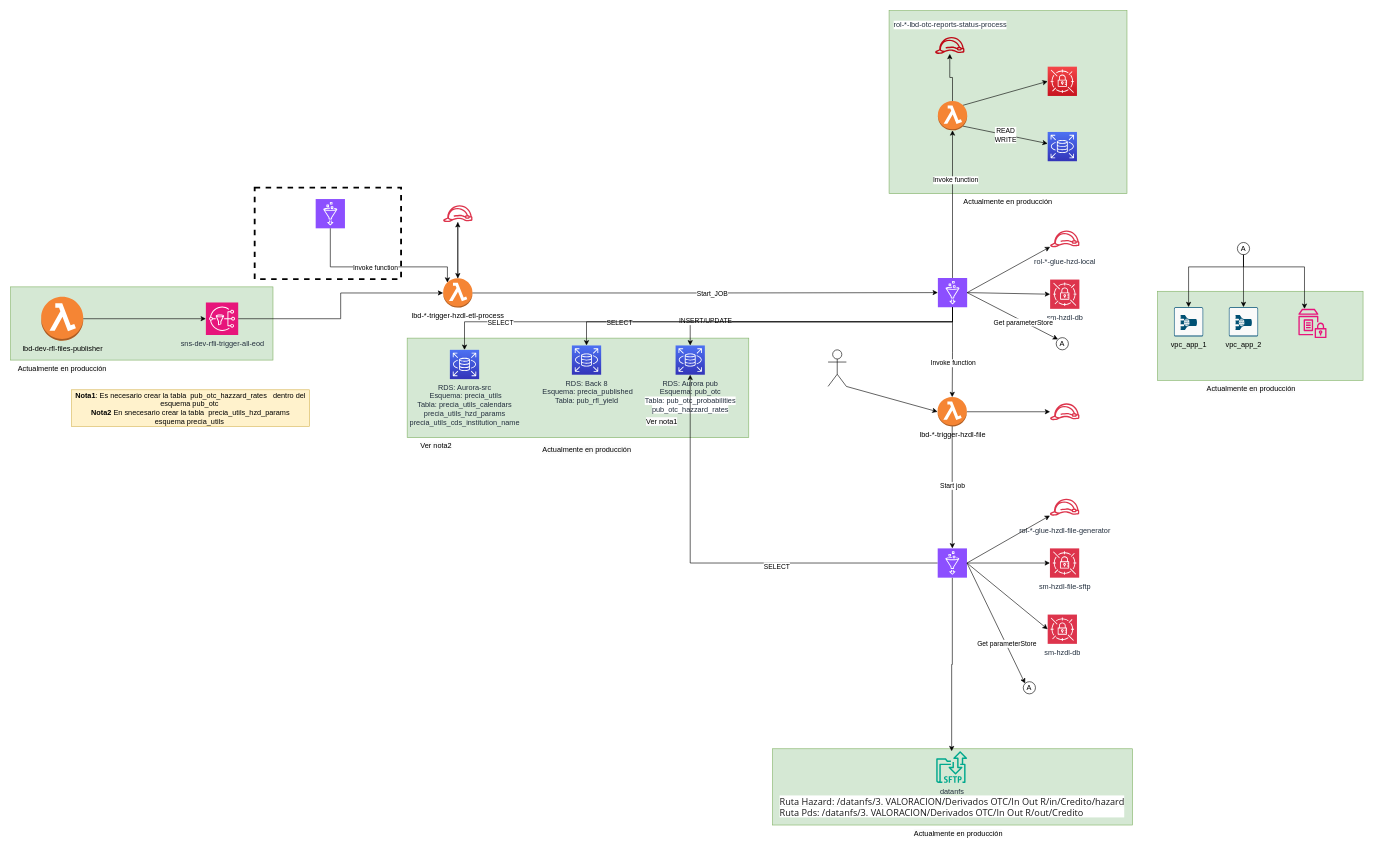
The diagram is 1374 pixels wide and 860 high, and some of its shapes have lost their labels. Each missing label, with the box of its shape:
aurora-*-sources-8 esquema: precia_utils tabla: precia_utils_reports_process_otc: (1047, 131, 1077, 161)
glue-*-hzdl-etl-process: (937, 277, 967, 307)
glue-*-hzdl-file-generator: (937, 548, 967, 578)
glue-*-otc-hzd-inter-etl-process: (315, 198, 345, 228)
lbd-*-otc-reports-status-process layer: capa-mysql-connector-python: (937, 100, 967, 130)
ps-otc-lambda-reports: (1297, 309, 1327, 338)
rol-*-lbd-trigger-hzdl-etl-process: (443, 199, 472, 228)
rol-*-lbd-trigger-hzdl-file: (1050, 397, 1079, 426)
sm_otc_reports_aurora: (1047, 66, 1077, 96)
Valoración: (827, 349, 846, 386)
